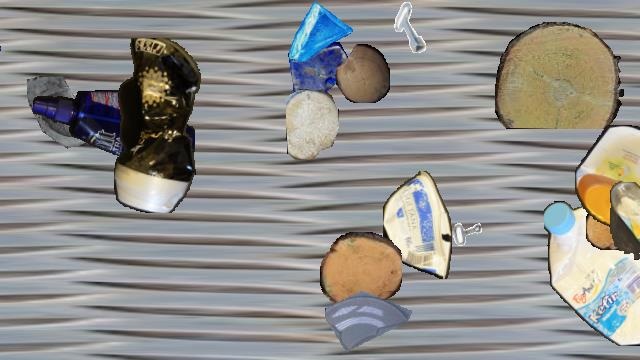glass: (325, 273, 411, 359), (25, 76, 111, 162), (286, 42, 352, 108), (287, 1, 353, 67), (0, 1, 3, 77)
metal: (433, 193, 491, 251), (386, 1, 438, 53)
plastic: (114, 38, 202, 212), (544, 200, 640, 346), (33, 90, 195, 172), (383, 171, 451, 279), (575, 125, 640, 227), (610, 182, 640, 260)
wood: (495, 22, 623, 128), (320, 232, 402, 310), (286, 89, 338, 159), (336, 44, 390, 102), (586, 204, 630, 250)
